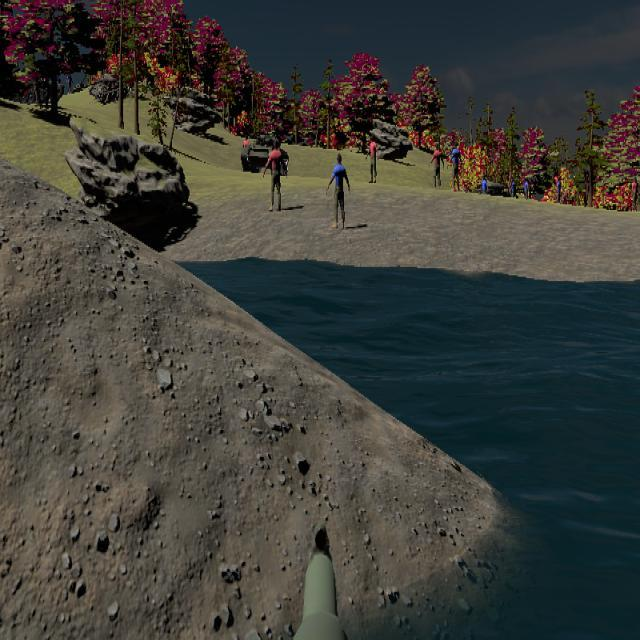Human: (327, 153, 350, 230), (263, 140, 287, 212), (448, 141, 463, 193), (430, 142, 444, 190), (366, 134, 379, 184)
Tank: (89, 73, 129, 104)
